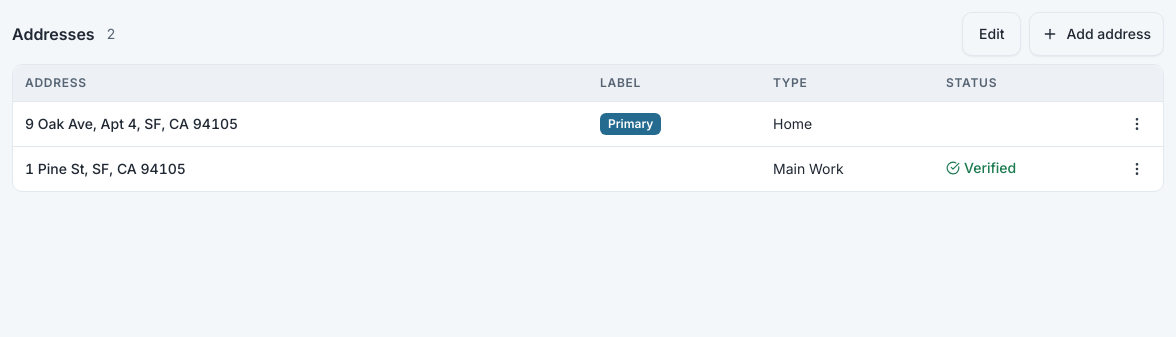
Scenario: AddressesSection: entry points › the header Edit: every row collapsed (chevron + read columns), focus on the first chevron; Editing; the footer
Click the button "Edit" at (992, 34), box [962,12,1021,56]
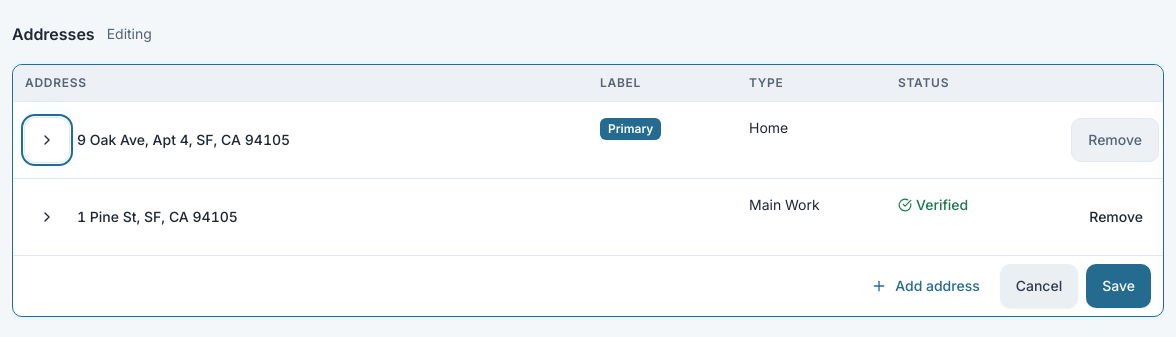
Check: the text "Editing" is shown, box [107,24,152,44]
Check: the buttons read "Add address", "Cancel", "Save", in this order, box [859,264,992,308]; [1000,264,1078,308]; [1086,264,1151,308]
